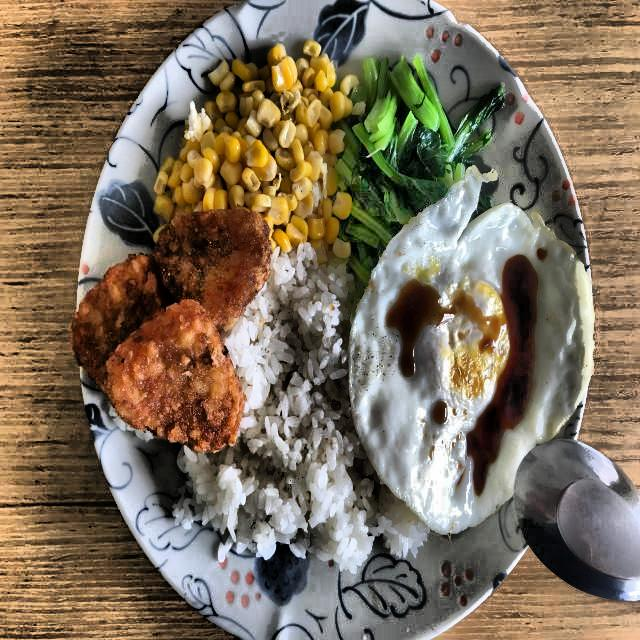Food: (348, 196, 596, 536), (70, 206, 275, 454), (239, 250, 360, 568), (346, 53, 508, 218)
